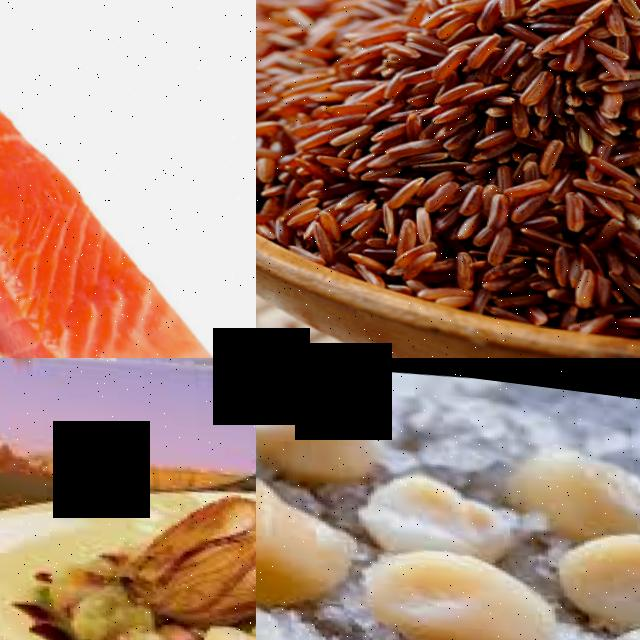red rice: (256, 0, 640, 332)
salmon: (0, 2, 256, 358)
sea scallops: (366, 531, 554, 640), (256, 461, 353, 612), (549, 507, 640, 627)
